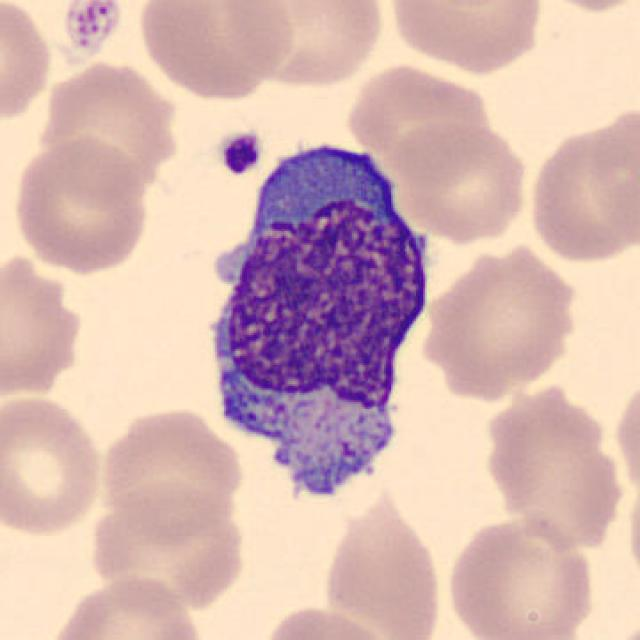Monocyte: (192, 129, 439, 520)
Platelets: (60, 0, 124, 58), (213, 127, 265, 178)
RBC: (418, 236, 585, 400), (481, 384, 621, 558), (34, 55, 183, 206), (87, 479, 251, 612), (96, 402, 247, 541), (443, 509, 601, 640), (9, 132, 153, 275), (318, 485, 448, 640), (388, 116, 532, 247), (342, 60, 494, 180), (524, 106, 636, 268), (133, 0, 298, 102), (0, 392, 107, 540), (220, 0, 390, 90), (0, 243, 82, 404), (384, 0, 549, 76), (41, 571, 206, 640), (0, 0, 55, 129), (254, 601, 402, 640), (610, 370, 640, 508), (524, 0, 640, 16), (599, 612, 638, 640)
